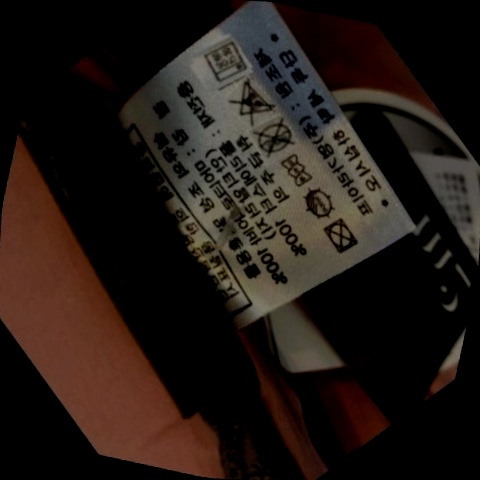30C: (192, 32, 257, 92)
DN_dry_clean: (241, 111, 303, 165)
DN_tumble_dry: (316, 212, 363, 259)
dry_flat_in_shade: (291, 175, 347, 225)
non_chlorine_bleach: (220, 75, 281, 131)
wring: (268, 145, 322, 198)
